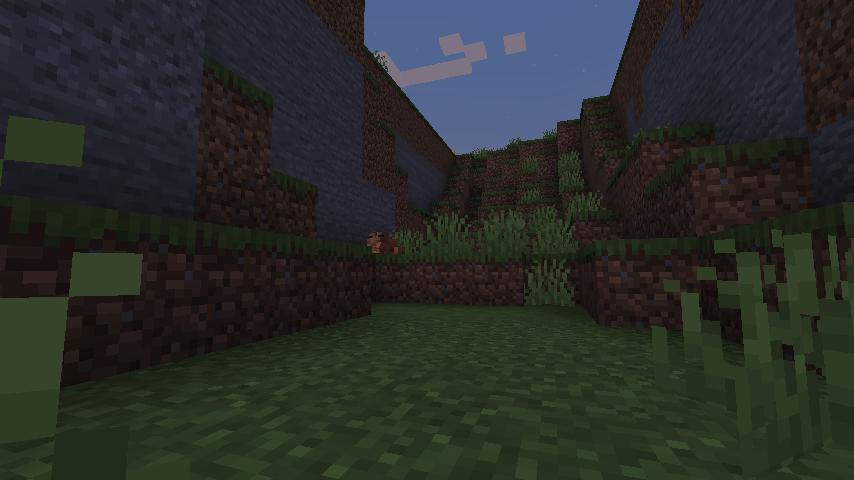frog: (365, 228, 407, 258)
